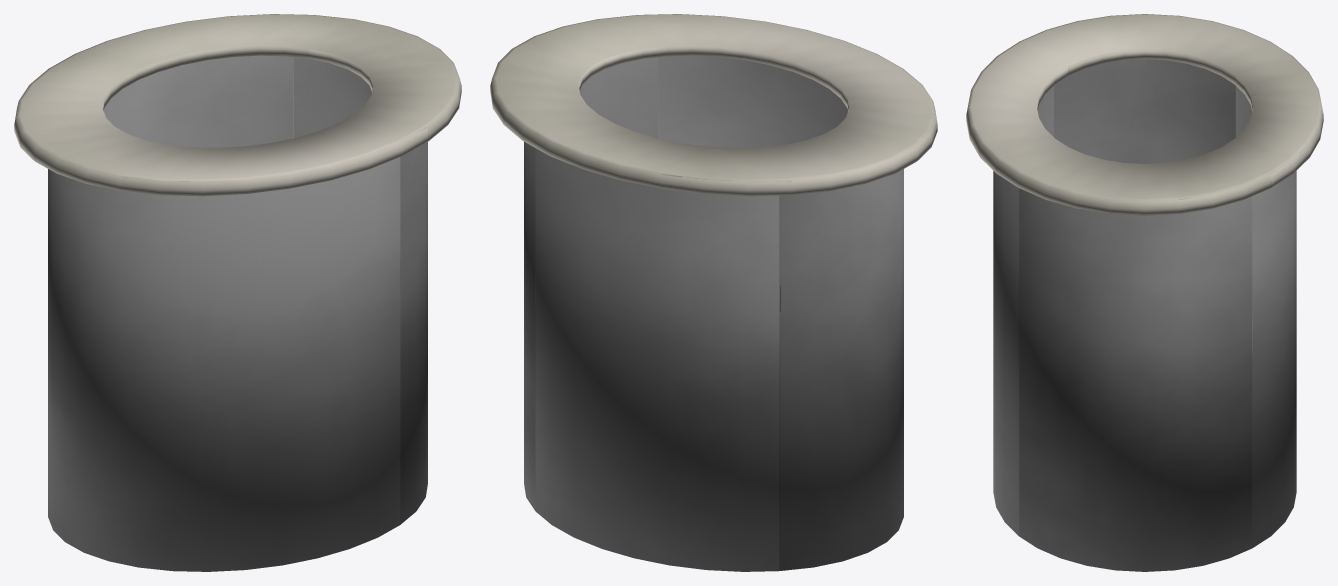
Rendered from Toilet1.fbx.
3 renders of one model, left to right at view 1: azimuth 30°, elevation 25°; view 2: azimuth 150°, elevation 25°; view 3: azimuth 270°, elevation 25°, orthographic. The views are drawn at different scales.
Parts seen in each view (by area): view 1: Toilet1; view 2: Toilet1; view 3: Toilet1.
Boxes of the visible parts, box(x1,y1,x2,y2) form: Toilet1: box(14, 14, 461, 571); Toilet1: box(490, 14, 937, 571); Toilet1: box(966, 14, 1323, 571).
Size of the model in its own units: 295 by 280 by 235.
